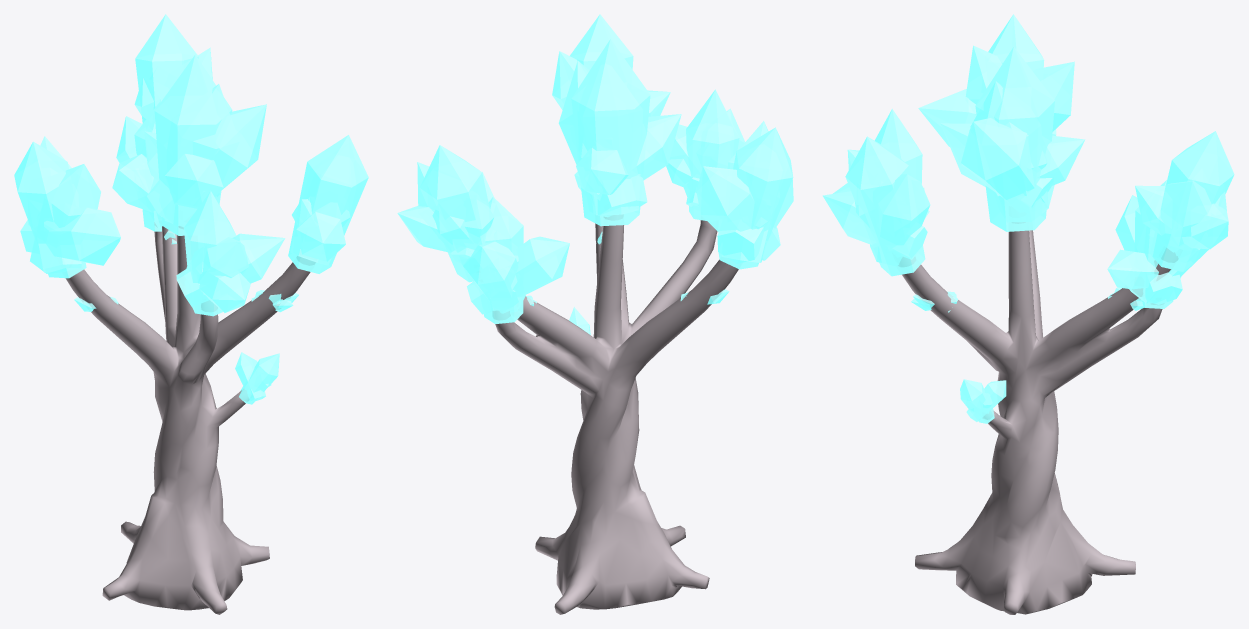
Rendered from tree_crystal.glb.
The picture shows the model from 3 angles, left to right: view 1: azimuth 30°, elevation 25°; view 2: azimuth 150°, elevation 25°; view 3: azimuth 270°, elevation 25°; orthographic projection. The views are drawn at different scales.
Parts seen in each view (by area): view 1: Canopy, Trunk; view 2: Canopy, Trunk; view 3: Canopy, Trunk.
Boxes of the visible parts, box(x1,y1,x2,y2) form: Canopy: box(14, 14, 368, 404); Trunk: box(65, 224, 312, 614); Canopy: box(397, 14, 793, 334); Trunk: box(493, 215, 738, 614); Canopy: box(822, 14, 1234, 423); Trunk: box(901, 222, 1176, 614).
Size of what is drawn, in the model's own units: 3.76 by 6.77 by 4.59.
